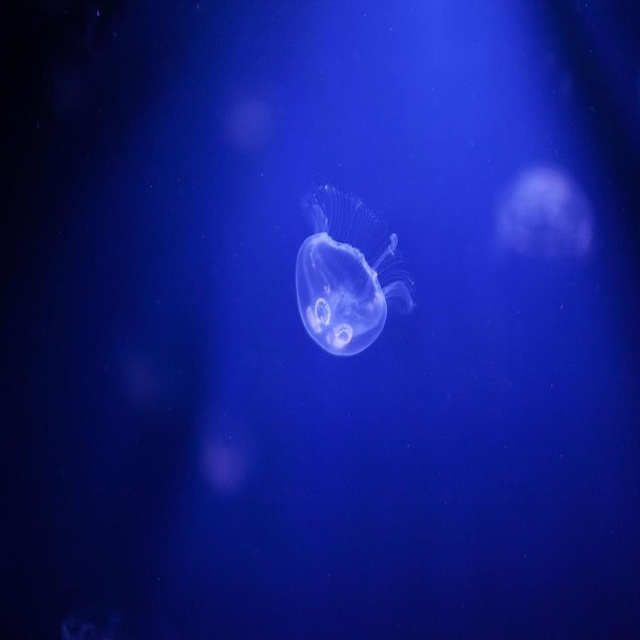Jellyfish: (296, 172, 418, 356)
